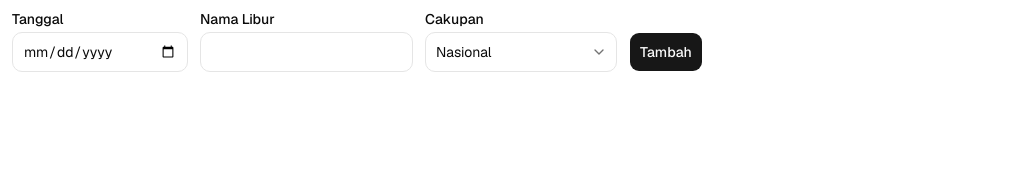
it: HolidayForm › shows an error from a failed add
Click the button "Tambah". click: (666, 52)
box: [629,32,703,72]
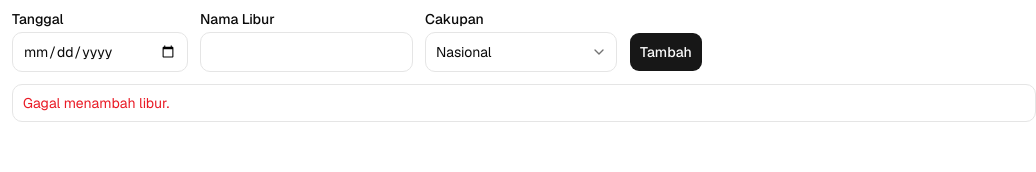
Check: the text "Gagal menambah libur." is shown, box [23,94,169,112]
